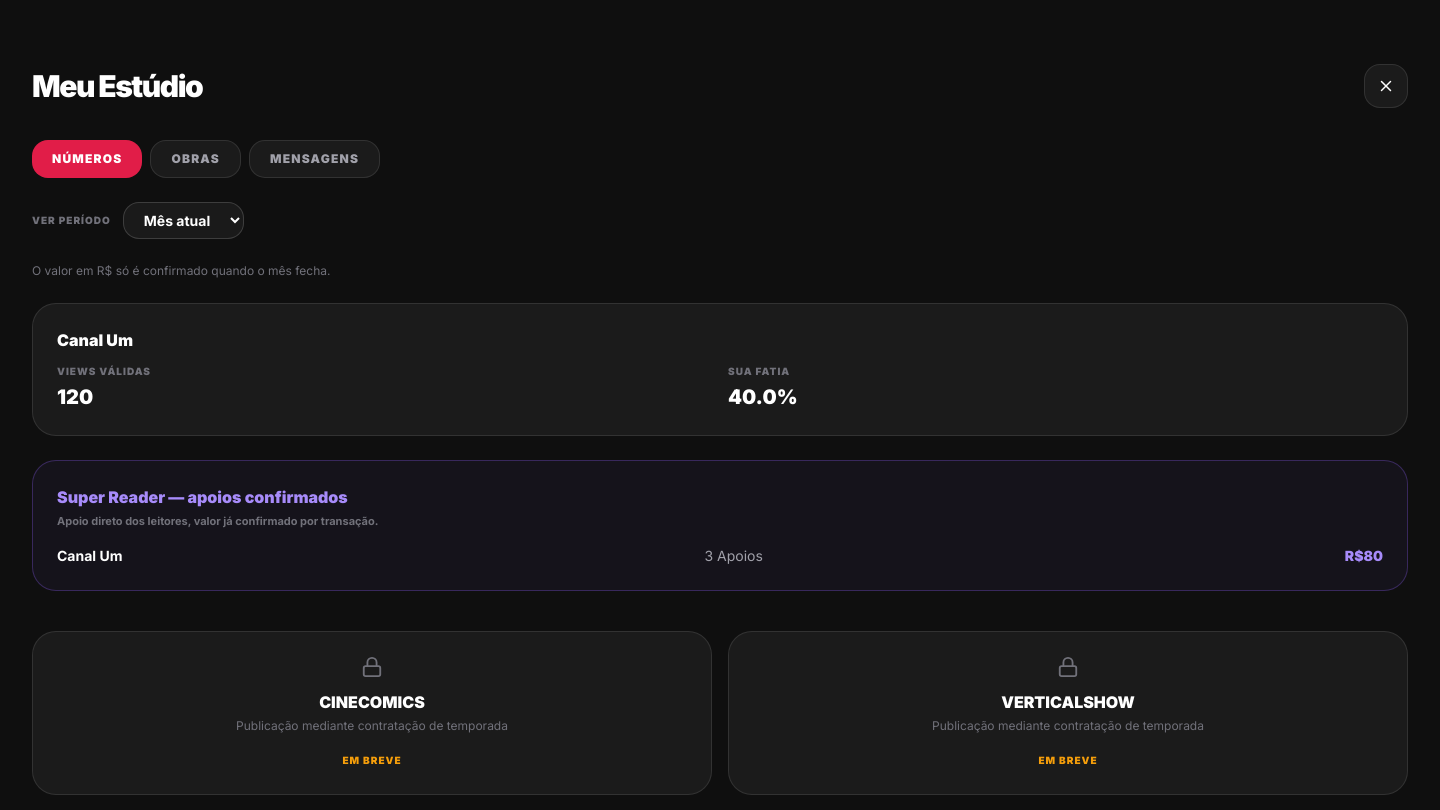
PortalEstudio — aba Números › trocar para período fechado busca de novo e mostra R$
Expected: the element with test id "portal-pool-section" is shown, [32,303,1408,436]
Select "2026-08" in the dropdown labelled "Ver período": (183, 220) [123,202,244,239]
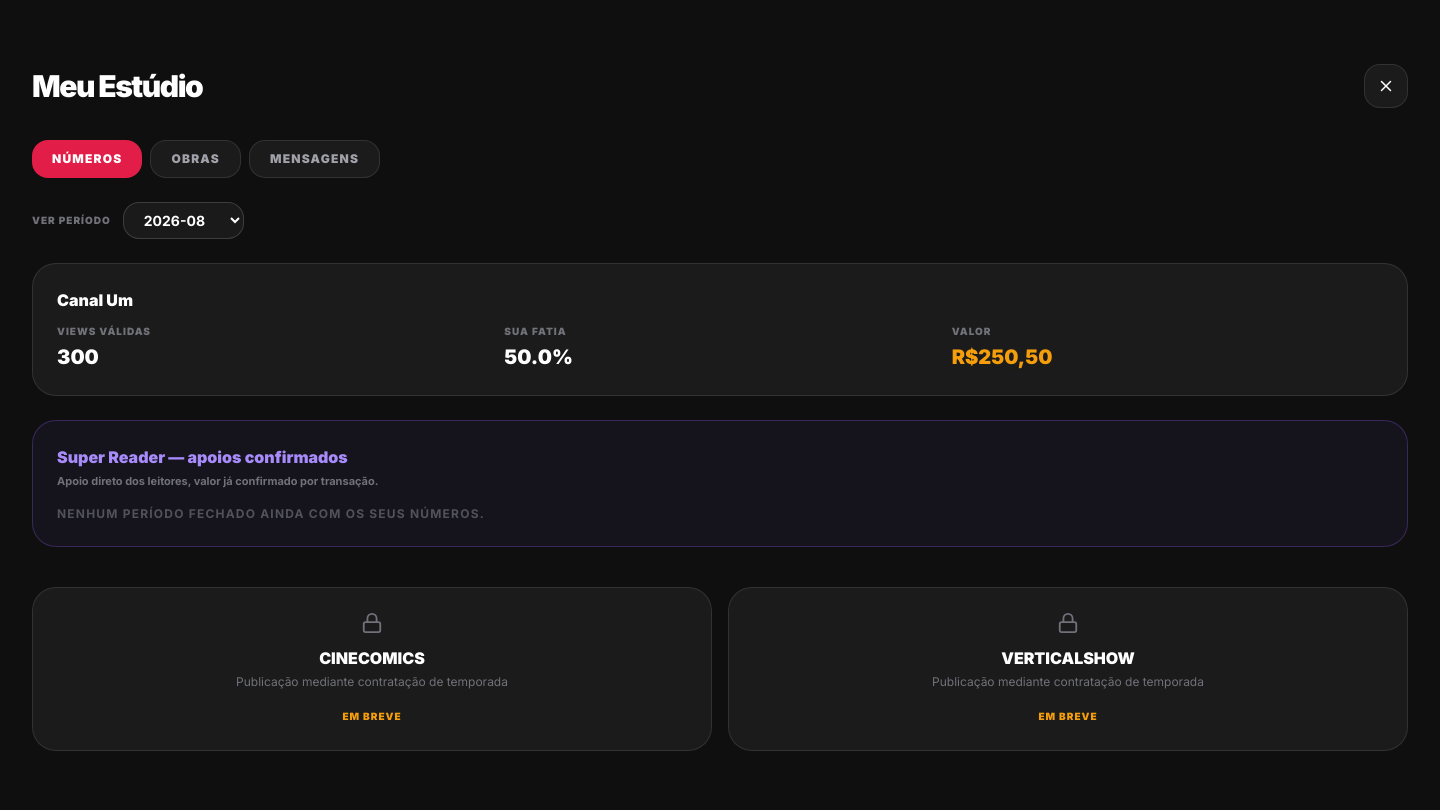
Expected: the text "R$250,50" is shown, [952,345,1052,369]
